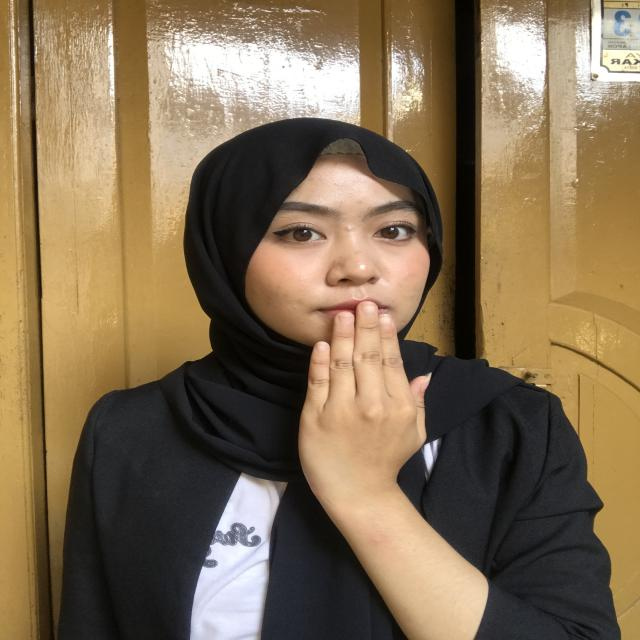ganteng: (279, 286, 469, 512)
